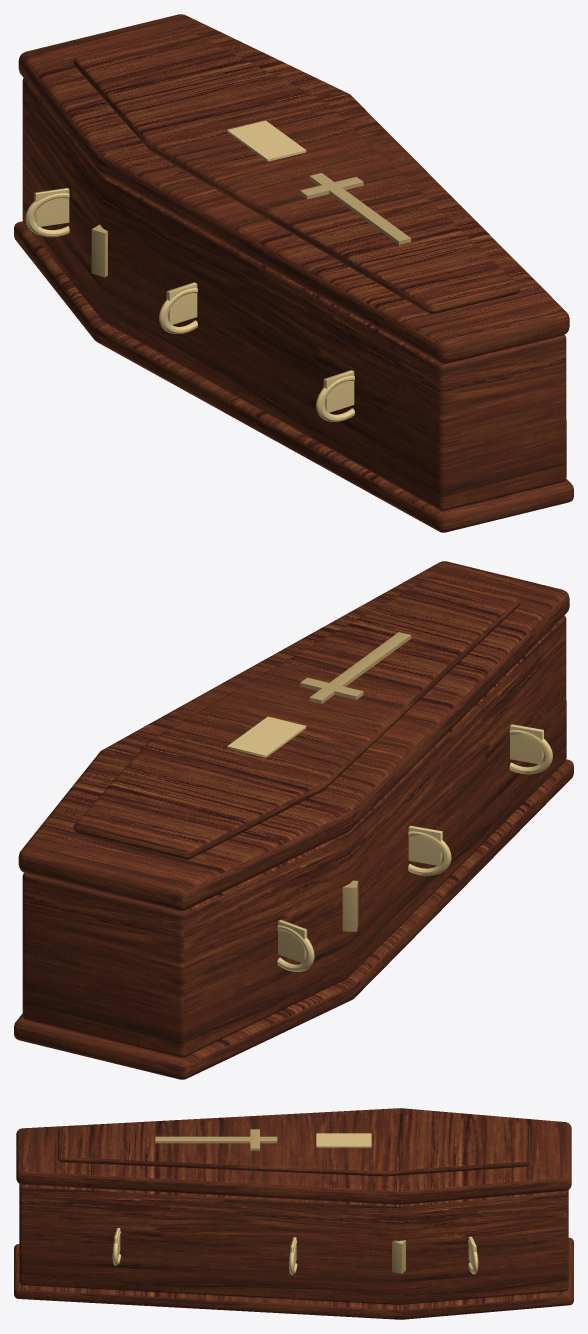
The model's file is casket.glb.
The picture shows the model from 3 angles, top to bottom: view 1: azimuth 30°, elevation 25°; view 2: azimuth 150°, elevation 25°; view 3: azimuth 270°, elevation 25°; orthographic projection. The views are drawn at different scales.
Visible parts, largest first — view 1: CasketLid, CasketBody, Plinth, Brassware; view 2: CasketLid, CasketBody, Plinth, Brassware; view 3: CasketBody, CasketLid, Plinth, Brassware.
Boxes of the visible parts, x1,y1,x2,y2 form: CasketLid: (18, 14, 569, 363); CasketBody: (22, 78, 566, 510); Plinth: (14, 221, 573, 532); Brassware: (25, 187, 354, 421); CasketLid: (18, 561, 569, 910); CasketBody: (22, 615, 566, 1057); Plinth: (14, 759, 573, 1079); Brassware: (277, 724, 552, 971); CasketBody: (19, 1184, 568, 1304); CasketLid: (16, 1108, 571, 1204); Plinth: (14, 1237, 573, 1319); Brassware: (112, 1228, 478, 1274).
Size of the model in its own units: 0.8295 by 0.553 by 2.02.
Materials: 4 (1 with a texture image).
